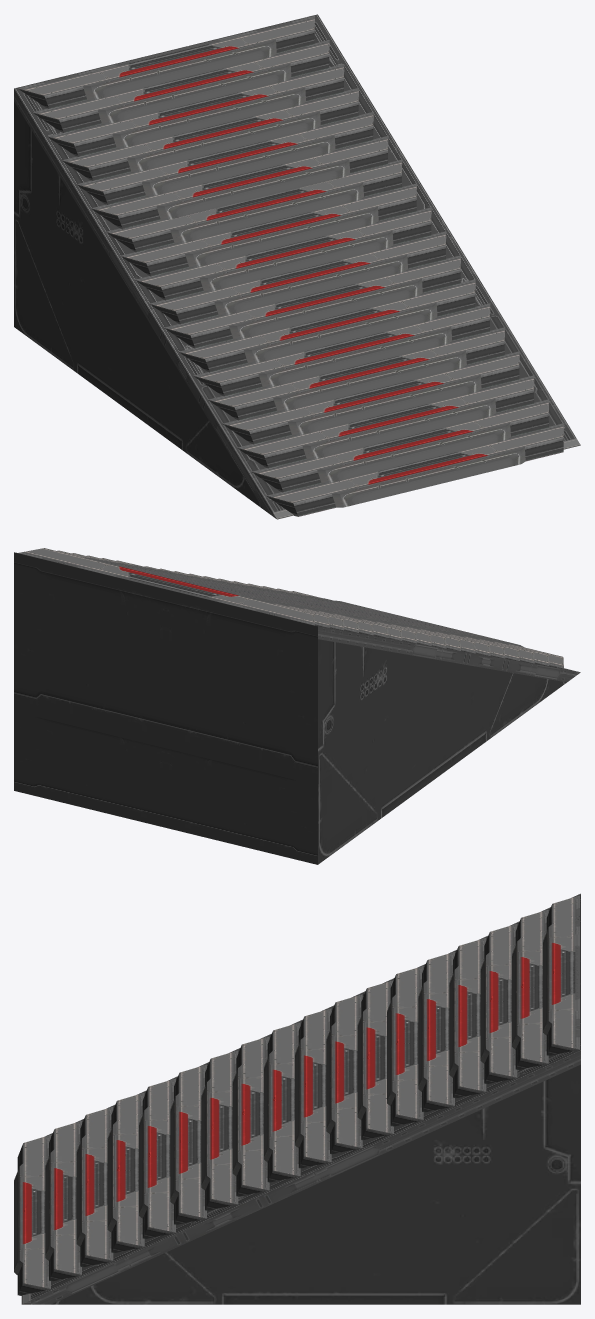
The model's file is Platform_Stairs_4WideTall.glb.
3 renders of one model, top to bottom at view 1: azimuth 30°, elevation 25°; view 2: azimuth 150°, elevation 25°; view 3: azimuth 270°, elevation 25°, orthographic. The views are drawn at different scales.
Parts seen in each view (by area): view 1: Platform_Stairs_4WideTall; view 2: Platform_Stairs_4WideTall; view 3: Platform_Stairs_4WideTall.
Boxes of the visible parts, <box> form: Platform_Stairs_4WideTall: <box>14,14,580,519</box>; Platform_Stairs_4WideTall: <box>14,548,580,864</box>; Platform_Stairs_4WideTall: <box>14,893,580,1304</box>.
Size of the model in its own units: 4 by 3.01 by 6.08.
Materials: 2 (2 with a texture image).
